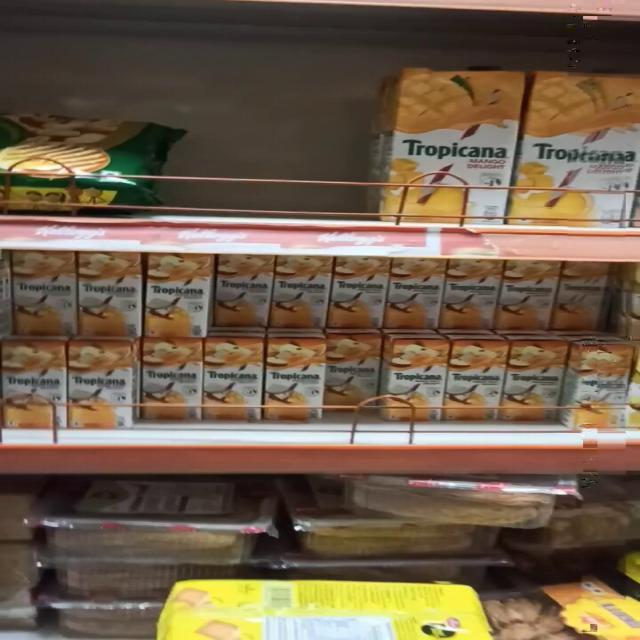Tropicana: (378, 67, 516, 231), (523, 68, 634, 234), (9, 250, 86, 342), (68, 344, 141, 428), (0, 342, 72, 420), (76, 252, 142, 336), (139, 338, 203, 420), (144, 252, 209, 332), (202, 341, 264, 422), (270, 253, 332, 331), (208, 254, 268, 334), (266, 342, 324, 422), (327, 254, 384, 334), (384, 258, 442, 336), (448, 343, 508, 418), (387, 341, 450, 412), (496, 259, 553, 337), (436, 258, 496, 330), (574, 346, 626, 428), (556, 264, 614, 332), (505, 345, 560, 414), (323, 338, 381, 402)
